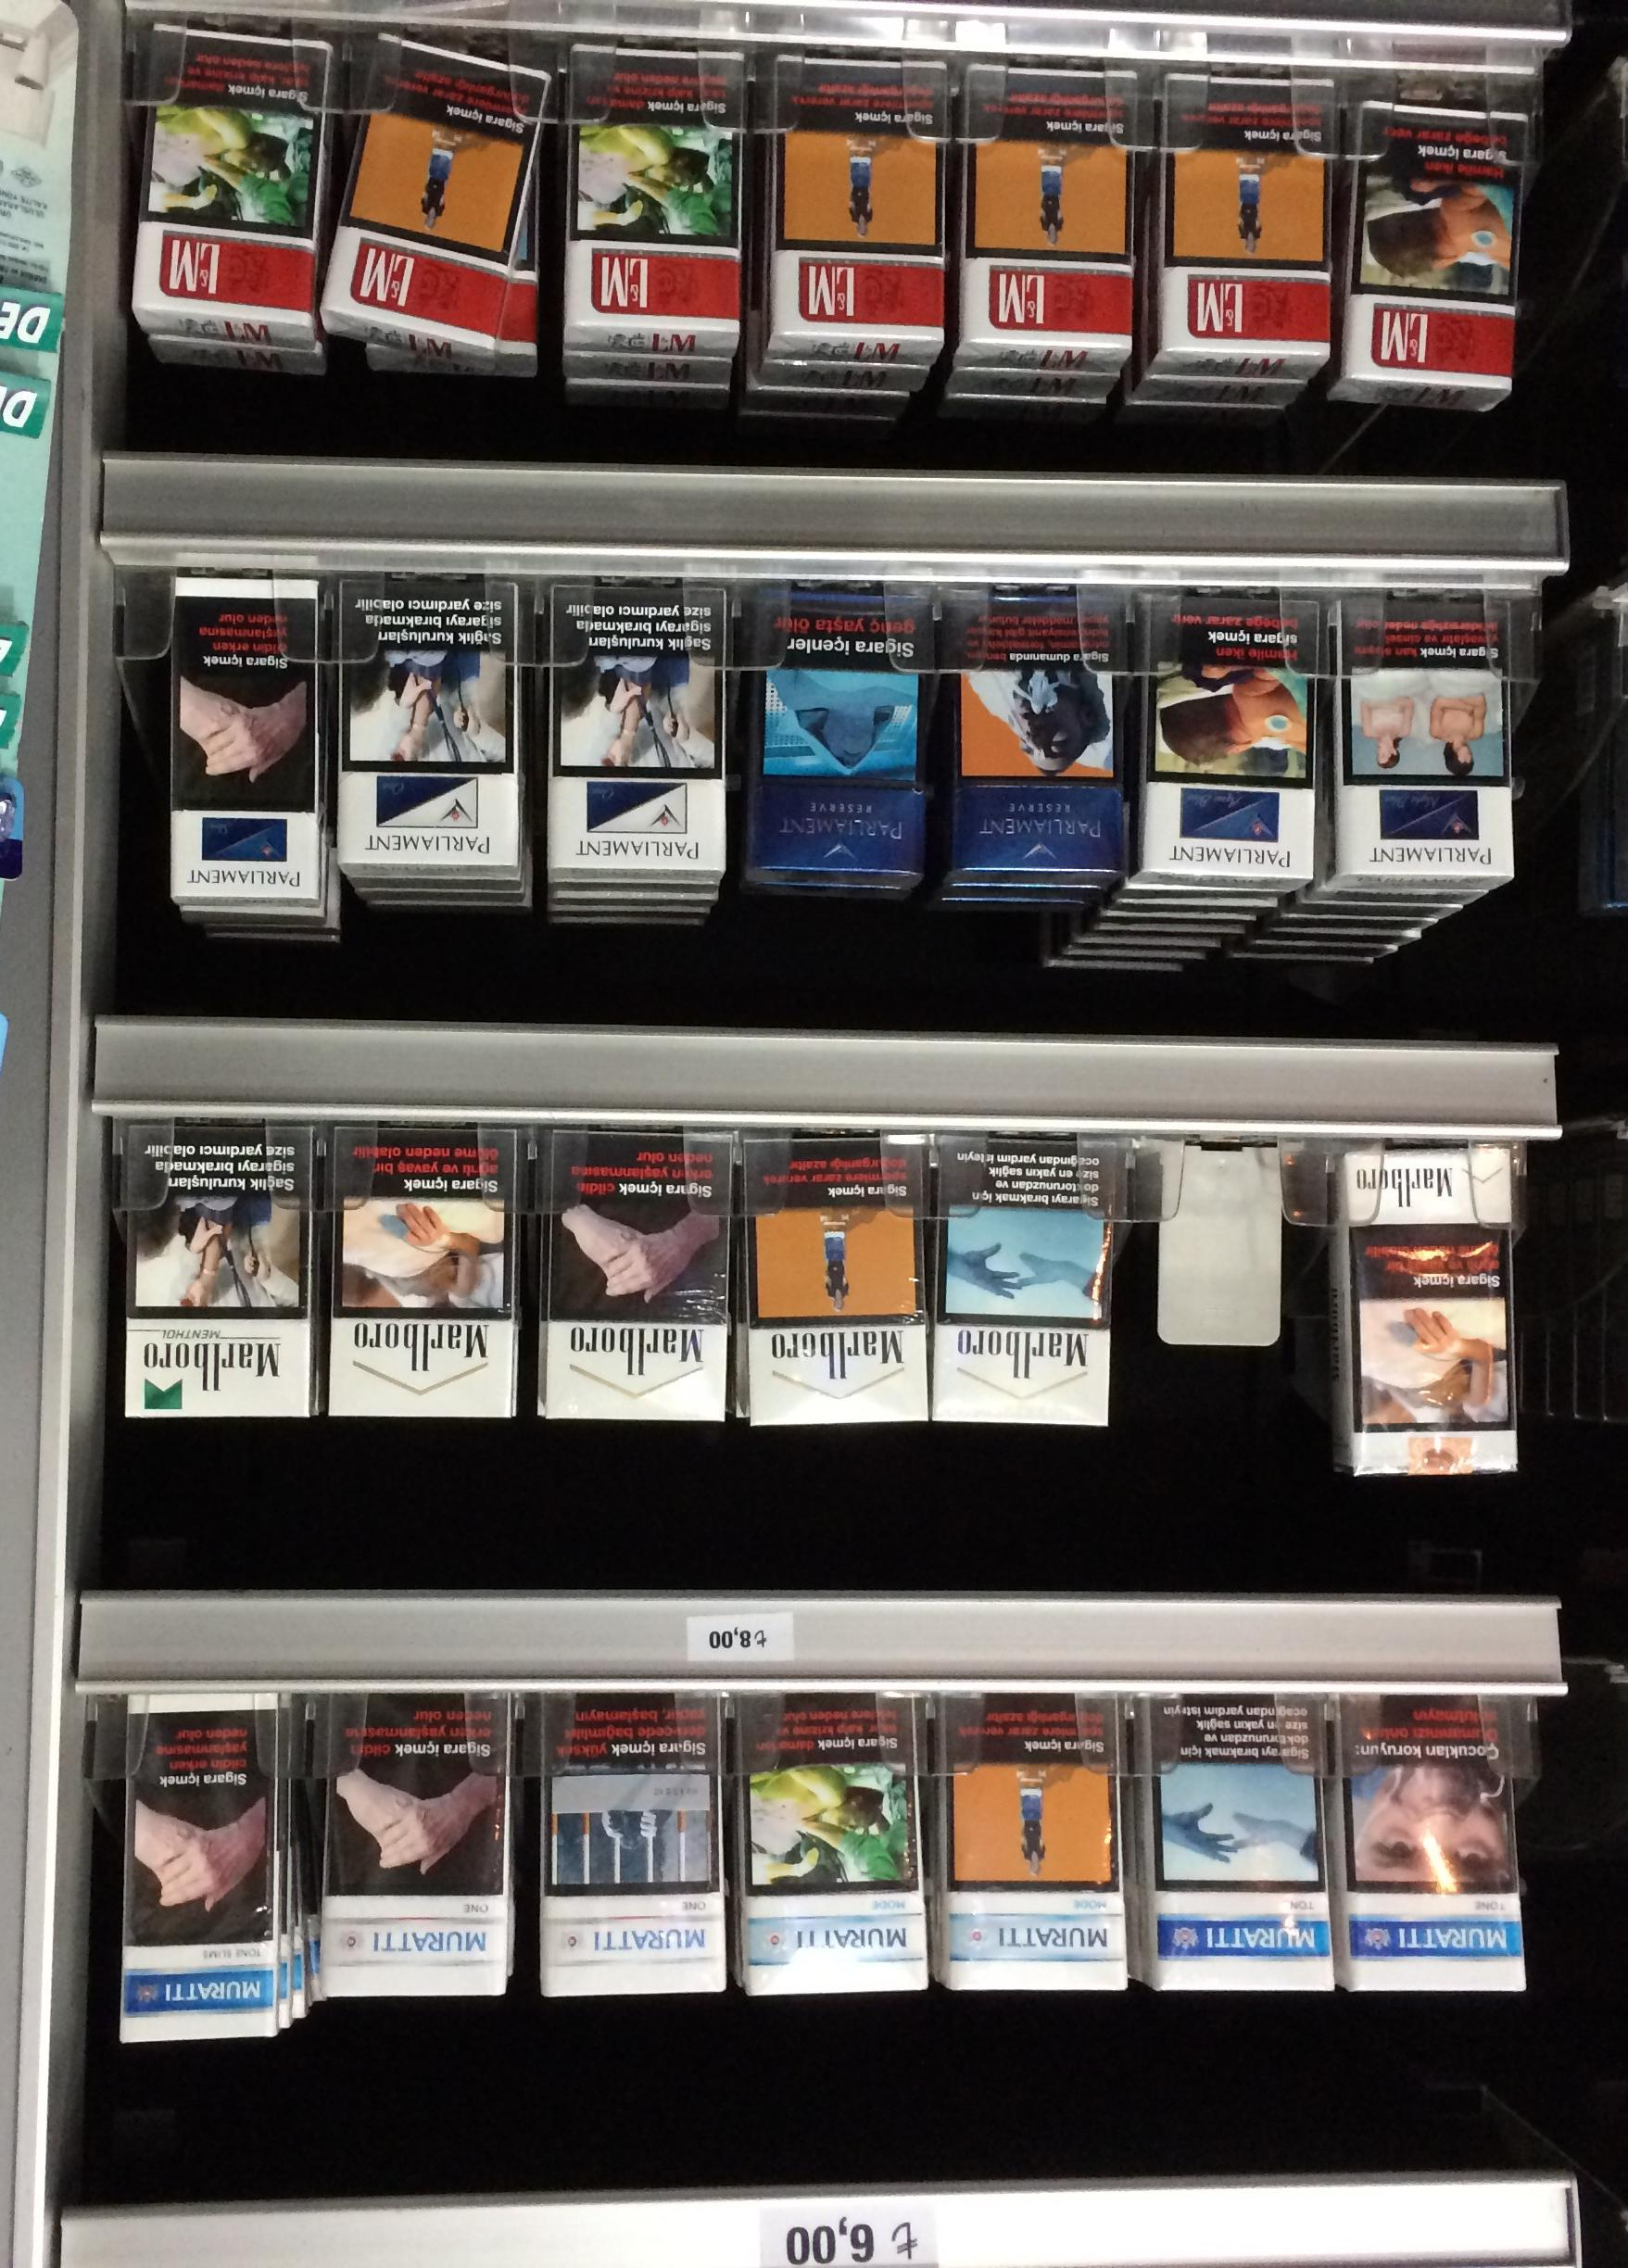product: (100, 775, 291, 1123), (1087, 1909, 1295, 2227), (282, 1875, 490, 2194), (463, 1895, 671, 2213), (664, 1905, 872, 2224), (869, 1905, 1077, 2224), (1332, 220, 1521, 569), (1291, 1921, 1498, 2240), (1309, 828, 1513, 1136), (490, 1379, 694, 1687), (100, 1365, 305, 1673), (1087, 1388, 1291, 1694), (282, 271, 483, 583), (893, 257, 1094, 569), (90, 268, 291, 579), (687, 1379, 890, 1687), (899, 1379, 1101, 1687), (294, 1375, 497, 1683), (1121, 271, 1320, 583), (479, 268, 678, 579), (684, 261, 883, 572), (893, 831, 1080, 1139), (1117, 828, 1302, 1136), (104, 1868, 275, 2194), (1295, 1365, 1464, 1690), (513, 831, 687, 1139), (705, 817, 879, 1123)
